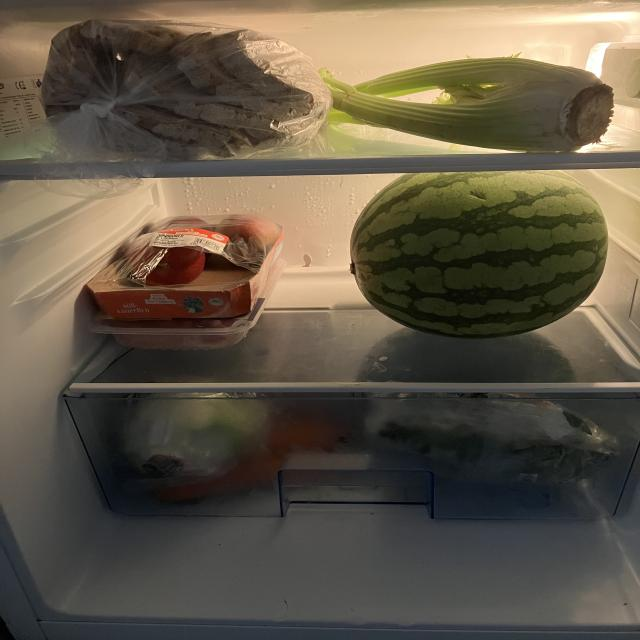Apples: (86, 212, 291, 320)
Celery: (329, 42, 625, 152)
Meat: (83, 315, 258, 350)
Random: (175, 409, 338, 501)
Vegetable: (364, 388, 613, 500)
Watermelon: (342, 170, 621, 344)
bread: (36, 21, 318, 160)
cabbage: (107, 386, 267, 483)
